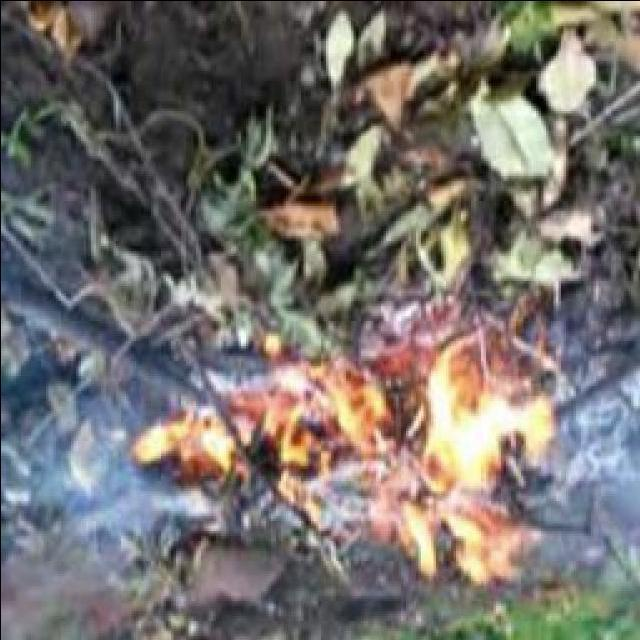Fire: (350, 332, 554, 580), (141, 355, 388, 499)
